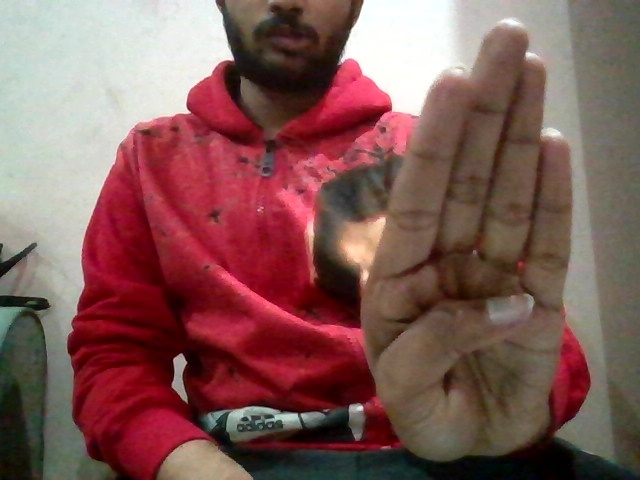B: (353, 8, 603, 464)
